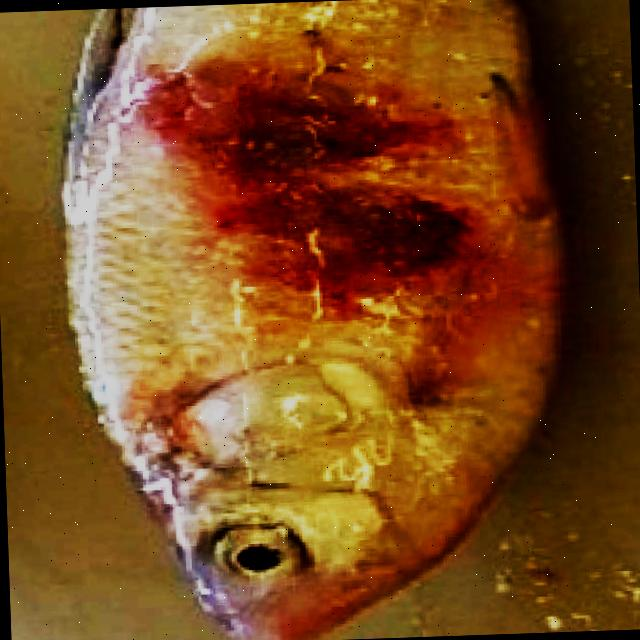Edwardsiella Ictaluri -Bacterial Red Disease-: (62, 0, 560, 640)
